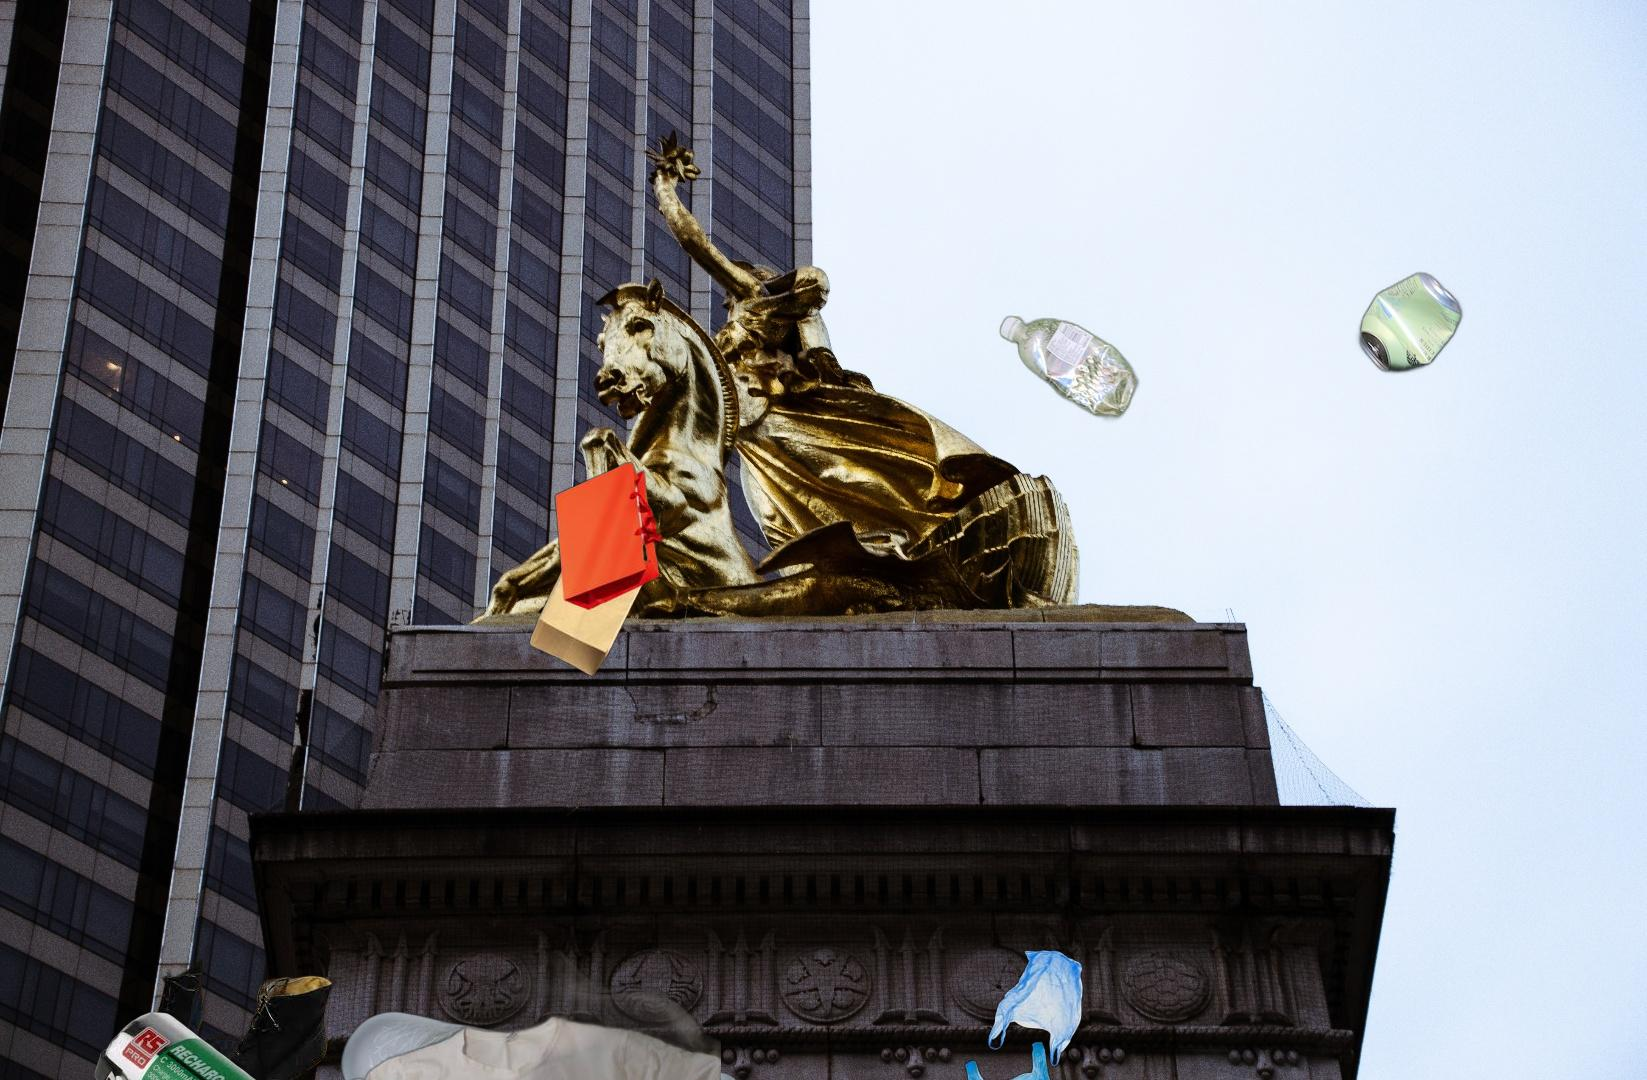battery: (92, 1005, 308, 1080)
clothes: (320, 917, 720, 1080)
glass: (336, 1008, 745, 1080)
metal-cans: (1127, 134, 1639, 640)
paper-bag: (528, 459, 665, 680)
plastic-bag: (961, 947, 1086, 1080)
plastic-bottles: (845, 310, 1142, 750)
shoes: (111, 937, 336, 1080)
